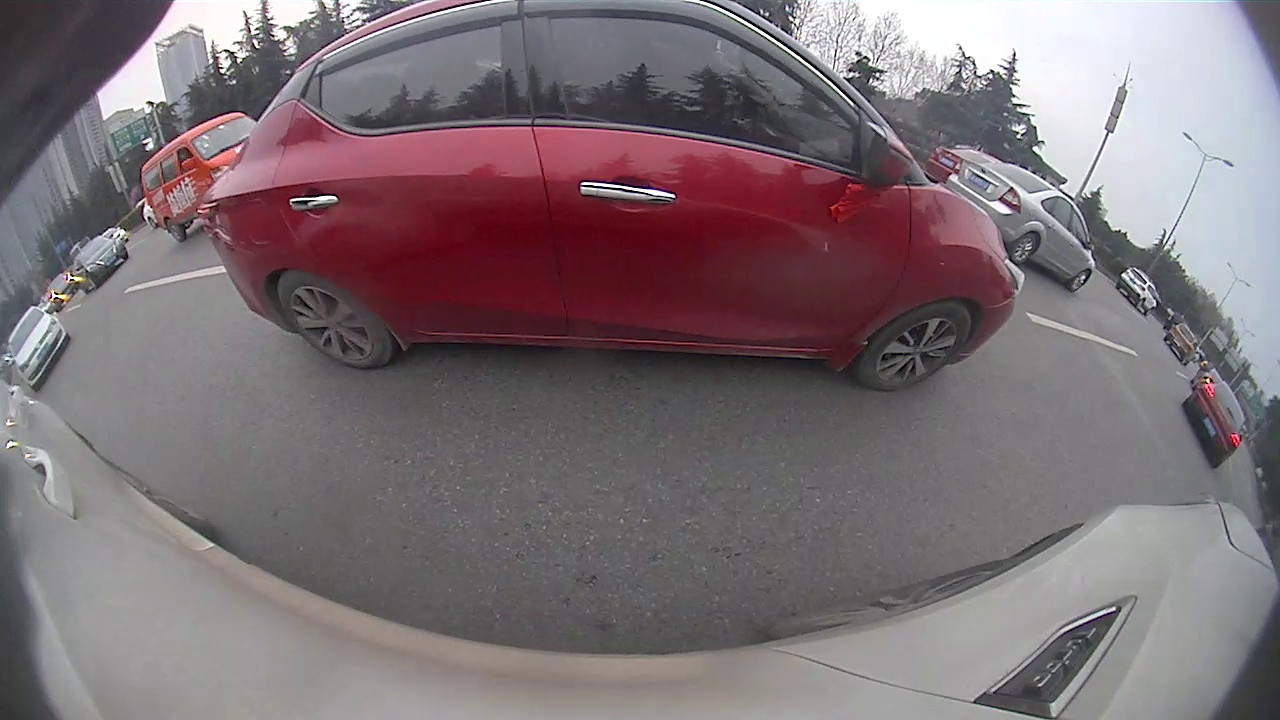car: (195, 1, 1024, 393), (943, 158, 1096, 294), (137, 108, 261, 241), (1182, 377, 1245, 471), (6, 306, 71, 391), (70, 236, 131, 296), (1116, 266, 1162, 316), (1164, 322, 1198, 366)
front: (854, 297, 973, 397), (1066, 270, 1091, 296)
rear: (274, 267, 395, 372), (1007, 232, 1037, 267), (168, 219, 187, 247)
